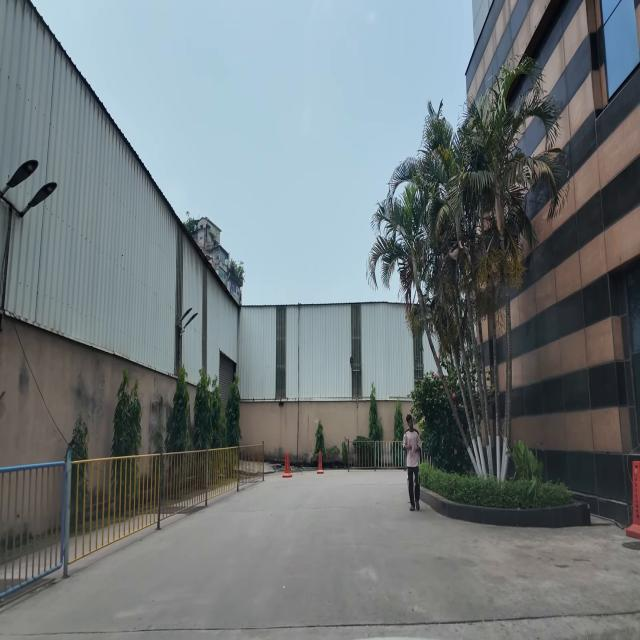person: (402, 414, 422, 512)
